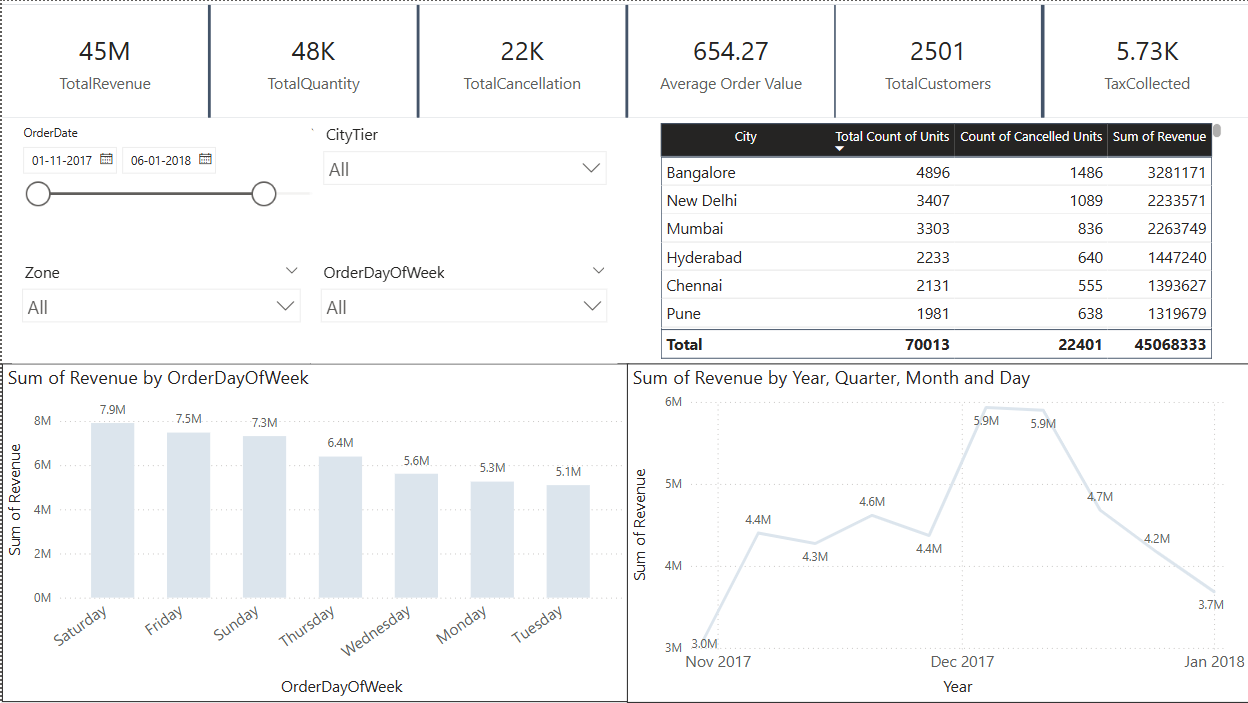

This screenshot's page, from the dashboard's own definition file:
{"tool":"powerbi","page":{"name":"Dashboard","canvas":[1280,720],"ordinal":0},"visuals":[{"type":"group","id":"g1","title":"Group 1","box":[0,3.8,1280,116.2],"z":0},{"type":"card","fields":{"Values":["Sum(Orders.Tax_Slab)"]},"box":[1069,3.9,211,116.1],"z":0,"group":"g1"},{"type":"group","id":"g2","title":"Group 2","box":[-0.2,372,1280.4,347.7],"z":1000},{"type":"columnChart","fields":{"Y":["Sum(Sales Raw.Revenue)"],"Category":["Sales Raw.OrderDayOfWeek"]},"box":[-0.2,372,642.9,347.1],"z":1000,"group":"g2"},{"type":"tableEx","fields":{"Values":["PinCode-Geo.City","Sum(Sales Raw.Units)","Sum(Sales Raw.Cancelled_Units)","Sum(Sales Raw.Revenue)"]},"box":[668.8,120,586.2,251.2],"z":2000},{"type":"lineChart","fields":{"Y":["Sum(Sales Raw.Revenue)"],"Category":["Sales Raw.OrderWeekStart.Variation.Date Hierarchy.Year","Sales Raw.OrderWeekStart.Variation.Date Hierarchy.Quarter","Sales Raw.OrderWeekStart.Variation.Date Hierarchy.Month","Sales Raw.OrderWeekStart.Variation.Date Hierarchy.Day"]},"box":[640.7,372,639.5,347.7],"z":2000,"group":"g2"},{"type":"card","fields":{"Values":["Count(Orders.Customer ID)"]},"box":[855,3.8,210,115.9],"z":3000,"group":"g1"},{"type":"group","id":"g3","title":"Group 3","box":[8.8,121.2,621.5,250.1],"z":3000},{"type":"slicer","fields":{"Values":["Sales Raw.OrderDate"]},"box":[8.8,121.2,330.2,140.7],"z":3000,"group":"g3"},{"type":"card","fields":{"Values":["Mod3_Raw_CityTier_v0 1.Average Order Value"]},"box":[642.2,3.9,211,116.1],"z":4000,"group":"g1"},{"type":"slicer","fields":{"Values":["PinCode-Geo.Zone"]},"box":[10.3,261,305.8,110.3],"z":4000,"group":"g3"},{"type":"slicer","fields":{"Values":["Mod3_Raw_CityTier_v0 1.CityTier"]},"box":[319.8,120.9,310.5,109.3],"z":4001},{"type":"card","fields":{"Values":["Sum(Sales Raw.Cancelled_Units)"]},"box":[428.3,3.9,211,116.1],"z":5000,"group":"g1"},{"type":"slicer","fields":{"Values":["Sales Raw.OrderDayOfWeek"]},"box":[316.1,261,314.2,110.3],"z":5000,"group":"g3"},{"type":"card","title":"Total Orders","fields":{"Values":["Sales Raw.Net Units"]},"box":[214.5,3.9,211,116.1],"z":5250,"group":"g1"},{"type":"card","fields":{"Values":["Sales Raw.TotalRevenue"]},"box":[0,3.8,211.6,116.2],"z":5500,"group":"g1"}]}

Visuals, with their boxes in screenshot pixels (x1, y1, x2, y2), scaled from the page's 1280x720 canvas onto the 1248x703 screenshot:
"Group 1" group: (left=0, top=4, right=1247, bottom=117)
card - Sum(Orders.Tax_Slab): (left=1042, top=4, right=1247, bottom=117)
"Group 2" group: (left=0, top=363, right=1247, bottom=702)
columnChart - Sum(Sales Raw.Revenue) x Sales Raw.OrderDayOfWeek: (left=0, top=363, right=627, bottom=702)
tableEx - PinCode-Geo.City x Sum(Sales Raw.Units): (left=652, top=117, right=1224, bottom=362)
lineChart - Sum(Sales Raw.Revenue) x Sales Raw.OrderWeekStart.Variation.Date Hierarchy.Year: (left=625, top=363, right=1247, bottom=702)
card - Count(Orders.Customer ID): (left=834, top=4, right=1038, bottom=117)
"Group 3" group: (left=9, top=118, right=615, bottom=363)
slicer - Sales Raw.OrderDate: (left=9, top=118, right=331, bottom=256)
card - Mod3_Raw_CityTier_v0 1.Average Order Value: (left=626, top=4, right=832, bottom=117)
slicer - PinCode-Geo.Zone: (left=10, top=255, right=308, bottom=363)
slicer - Mod3_Raw_CityTier_v0 1.CityTier: (left=312, top=118, right=615, bottom=225)
card - Sum(Sales Raw.Cancelled_Units): (left=418, top=4, right=623, bottom=117)
slicer - Sales Raw.OrderDayOfWeek: (left=308, top=255, right=615, bottom=363)
"Total Orders" card: (left=209, top=4, right=415, bottom=117)
card - Sales Raw.TotalRevenue: (left=0, top=4, right=206, bottom=117)
